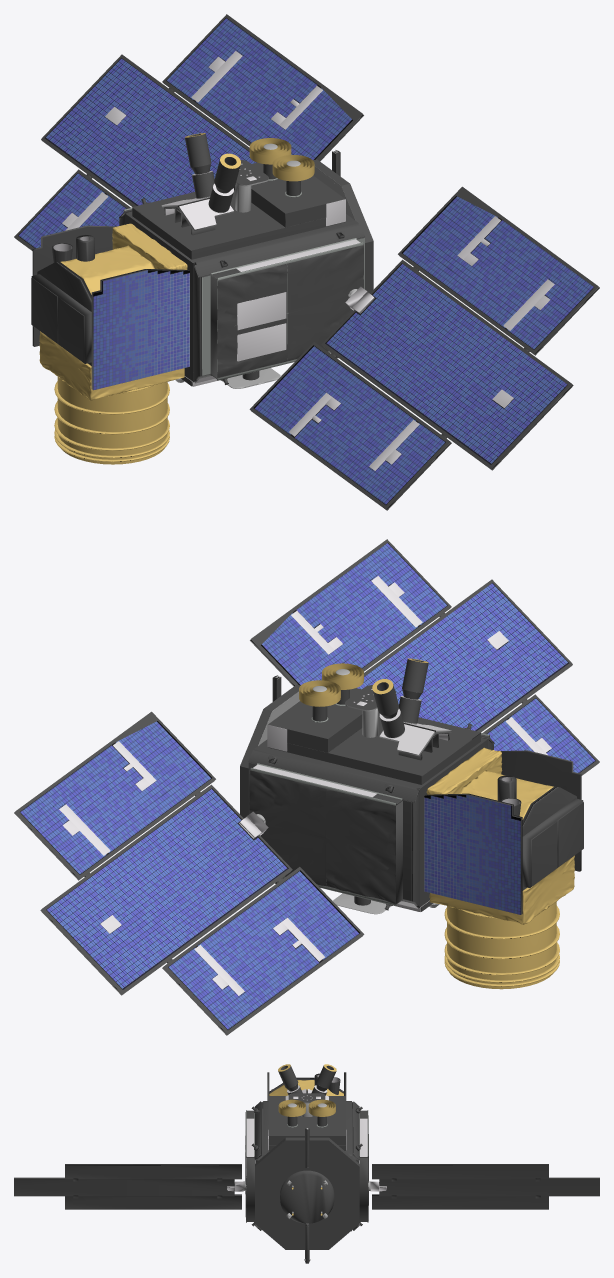
The model's file is ice-clouds-and-land-elevation-satellite-icesat-b.glb.
3 renders of one model, top to bottom at view 1: azimuth 30°, elevation 25°; view 2: azimuth 150°, elevation 25°; view 3: azimuth 270°, elevation 25°, orthographic. The views are drawn at different scales.
Visible parts, largest first — view 1: Mesh .007, Mesh .004, Mesh (×2), Mesh .003; view 2: Mesh .007, Mesh .004, Mesh (×2), Mesh .003; view 3: Mesh .004, Mesh, Mesh .003.
Boxes of the visible parts, <box> form: Mesh .007: <box>18,17,593,504</box>; Mesh .004: <box>14,14,599,510</box>; Mesh (×2): <box>39,51,554,470</box>; Mesh .003: <box>161,143,364,388</box>; Mesh .007: <box>20,542,595,1029</box>; Mesh .004: <box>14,539,599,1035</box>; Mesh (×2): <box>59,576,574,995</box>; Mesh .003: <box>256,669,451,914</box>; Mesh .004: <box>14,1065,599,1263</box>; Mesh: <box>227,1064,386,1225</box>; Mesh .003: <box>243,1102,370,1260</box>.
Bounding box in the file's own units: 0.8067 × 0.5956 × 1.76.
6 materials, 6 textured.
